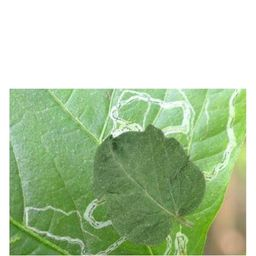liriomyza: (23, 196, 128, 256), (107, 88, 195, 140), (200, 89, 241, 183), (161, 229, 189, 256)
